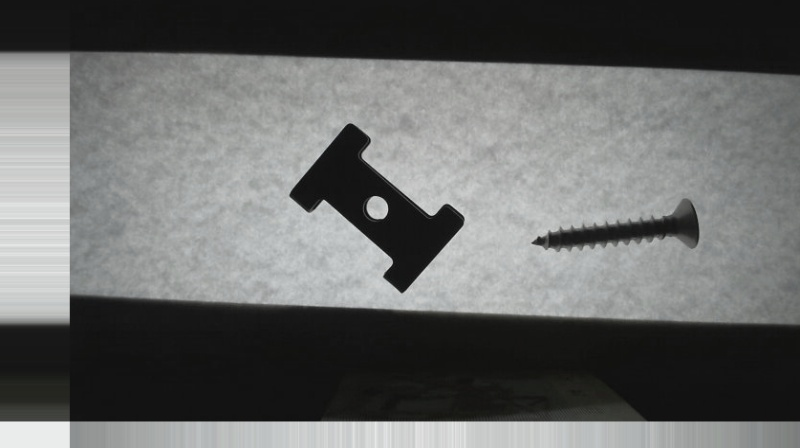O002: (286, 121, 471, 296)
S001: (522, 193, 702, 255)
